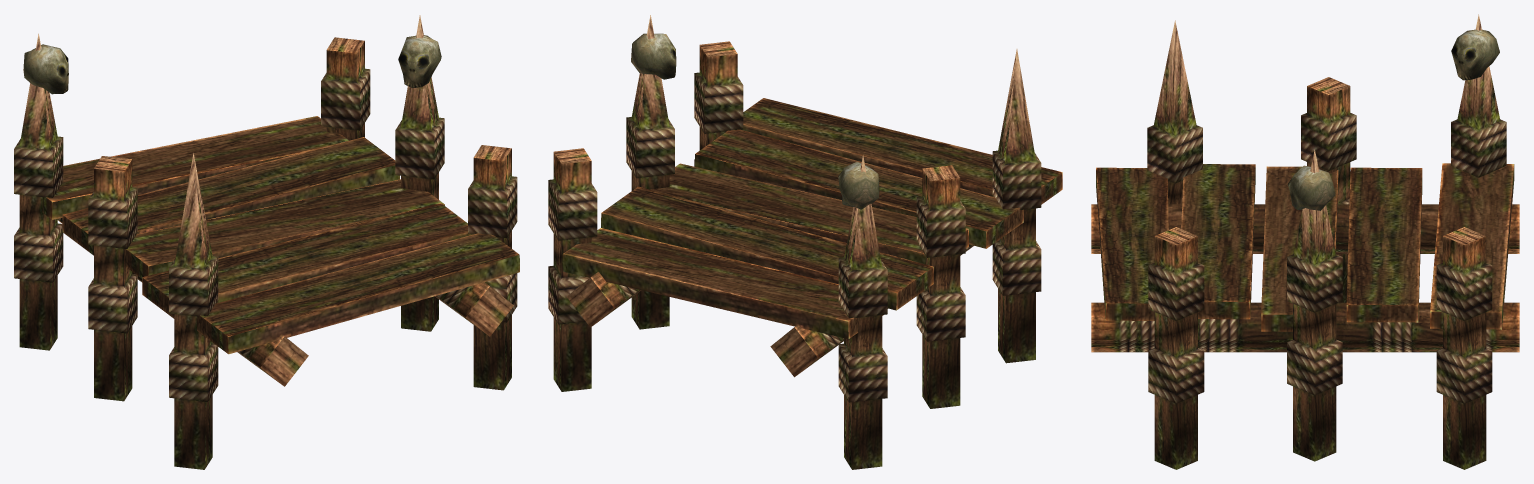
The model's file is WoodBridgeRoad01.FBX.
The picture shows the model from 3 angles, left to right: view 1: azimuth 30°, elevation 25°; view 2: azimuth 150°, elevation 25°; view 3: azimuth 270°, elevation 25°; orthographic projection. The views are drawn at different scales.
Visible parts, largest first — view 1: WoodBridgeRoad01; view 2: WoodBridgeRoad01; view 3: WoodBridgeRoad01.
Boxes of the visible parts, x1=… form: WoodBridgeRoad01: x1=14, y1=15, x2=519, y2=469; WoodBridgeRoad01: x1=548, y1=15, x2=1062, y2=469; WoodBridgeRoad01: x1=1091, y1=14, x2=1519, y2=469.
Size of the model in its own units: 464 by 408 by 500.
